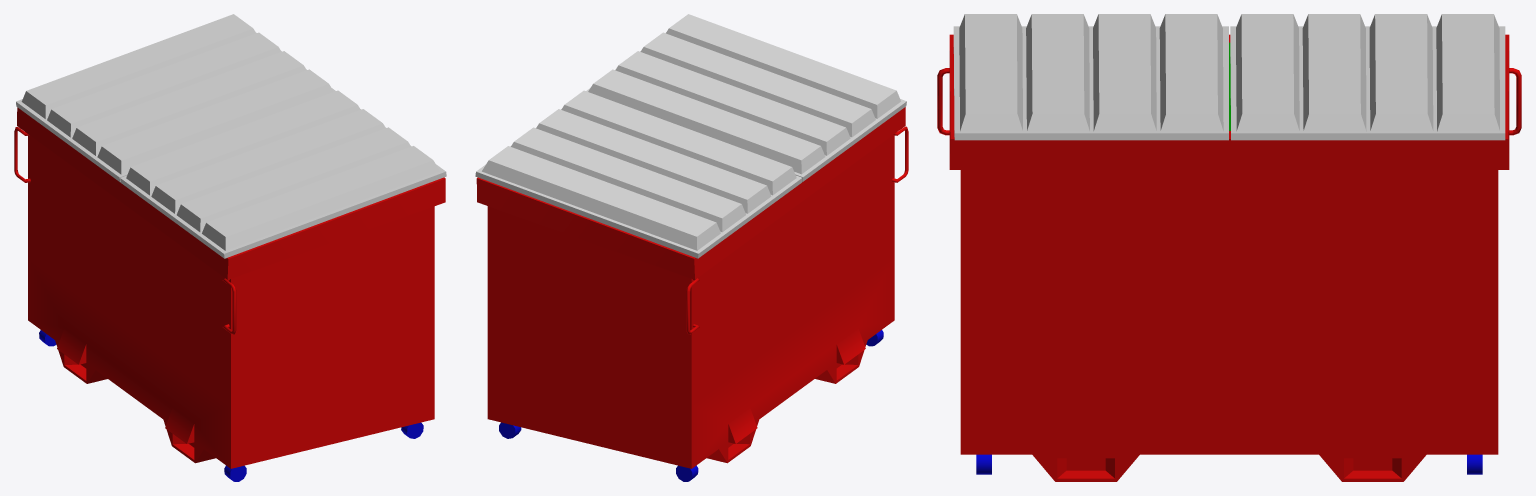
File: Dumpster.FBX
3 views of the same model, side by side, from view 1: azimuth 30°, elevation 25°; view 2: azimuth 150°, elevation 25°; view 3: azimuth 270°, elevation 25° (orthographic). The views are drawn at different scales.
Parts seen in each view (by area): view 1: Dumpster, Dumpster_Lid1, Dumpster_Lid2; view 2: Dumpster, Dumpster_Lid2, Dumpster_Lid1; view 3: Dumpster, Dumpster_Lid2, Dumpster_Lid1.
Boxes of the visible parts, <box> form: Dumpster: <box>14,107,445,481</box>; Dumpster_Lid1: <box>120,90,446,258</box>; Dumpster_Lid2: <box>16,14,335,182</box>; Dumpster: <box>476,107,908,481</box>; Dumpster_Lid2: <box>475,90,802,258</box>; Dumpster_Lid1: <box>586,14,906,182</box>; Dumpster: <box>937,34,1521,481</box>; Dumpster_Lid2: <box>1230,14,1505,140</box>; Dumpster_Lid1: <box>953,14,1228,140</box>.
Bounding box in the file's own units: 1.46 × 1.74 × 2.5.
